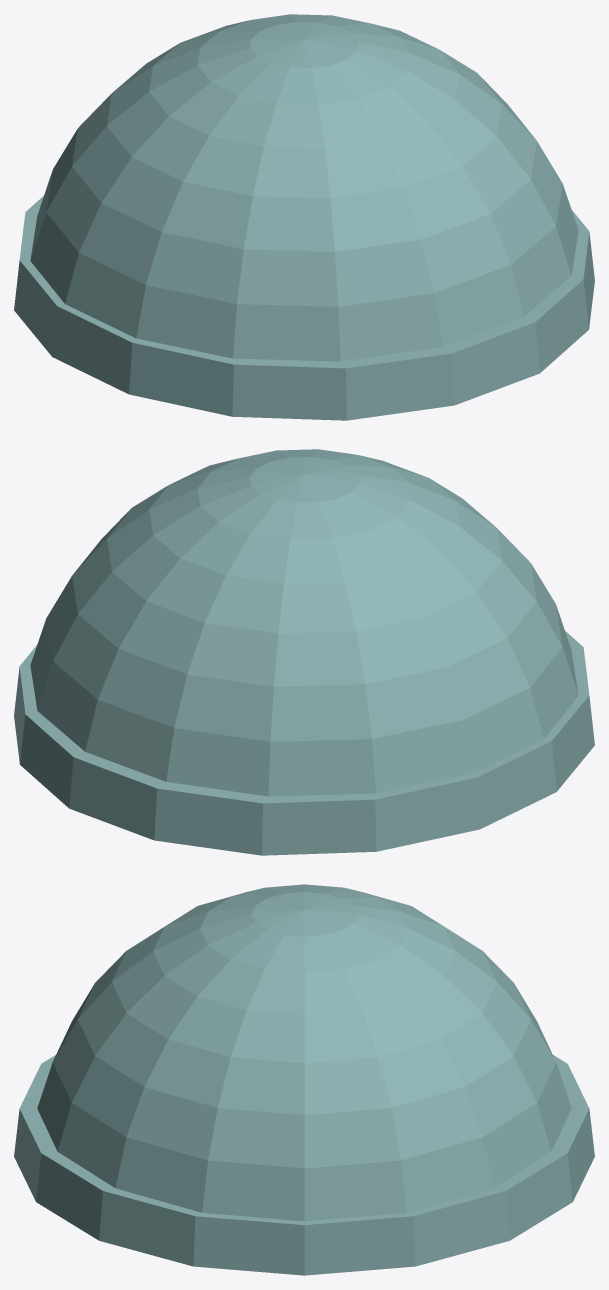
File: FG_Skywindow.fbx
3 views of the same model, one above another, from view 1: azimuth 30°, elevation 25°; view 2: azimuth 150°, elevation 25°; view 3: azimuth 270°, elevation 25° (orthographic). The views are drawn at different scales.
Parts seen in each view (by area): view 1: pSphere13; view 2: pSphere13; view 3: pSphere13.
Part boxes in pixels (<box>): pSphere13: <box>14,14,594,420</box>; pSphere13: <box>14,449,594,855</box>; pSphere13: <box>14,884,594,1275</box>.
Size of the model in its own units: 1115 by 540 by 1151.
